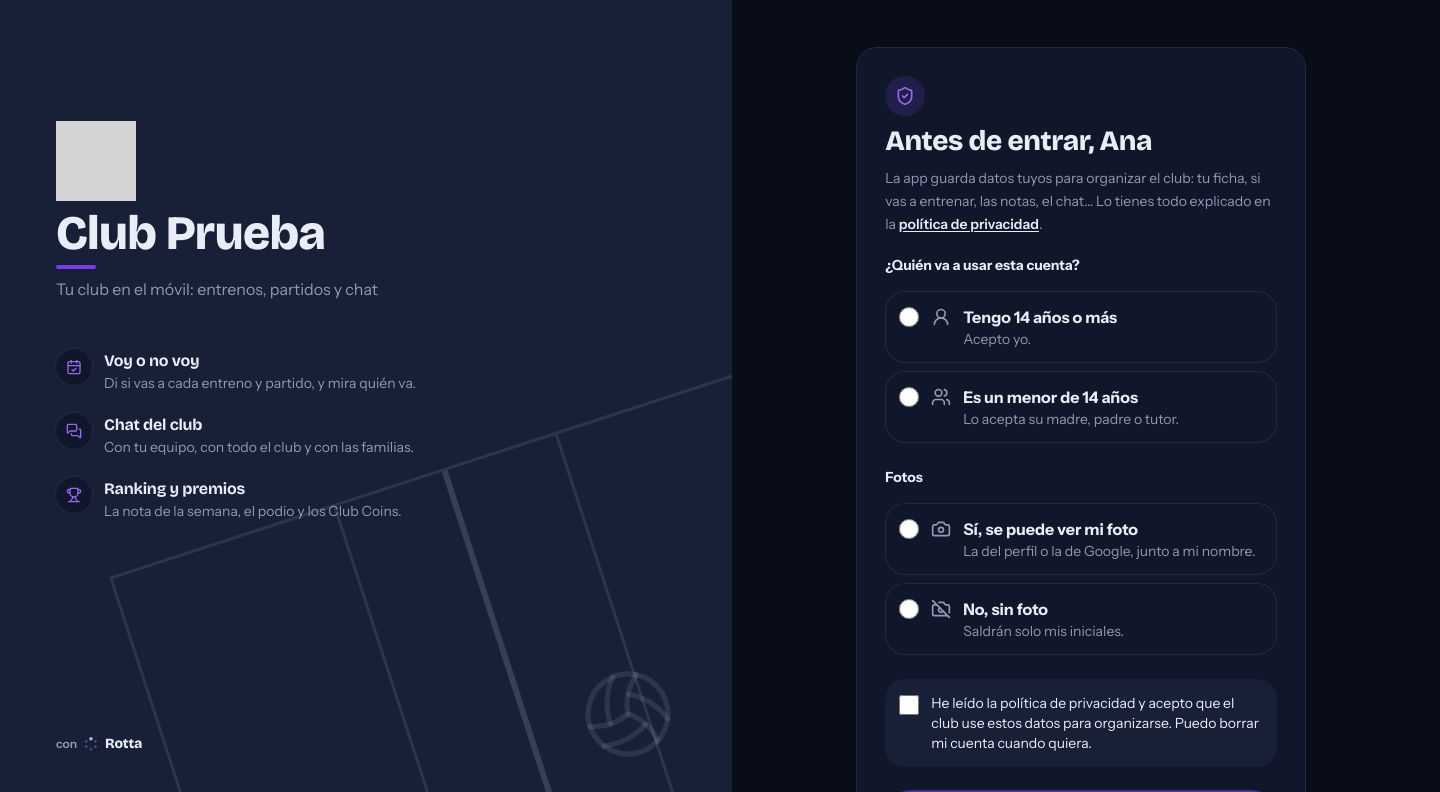
Test: ConsentPage › mayor de 14: no manda tutor; si el servidor falla, lo dice
The width and height of the screenshot is (1440, 792).
What coordinates should you click on to do the following:
click the radio button labelled "Tengo 14 años o más Acepto yo."
I would click on:
 (909, 317)
Its box is [899, 307, 919, 327].
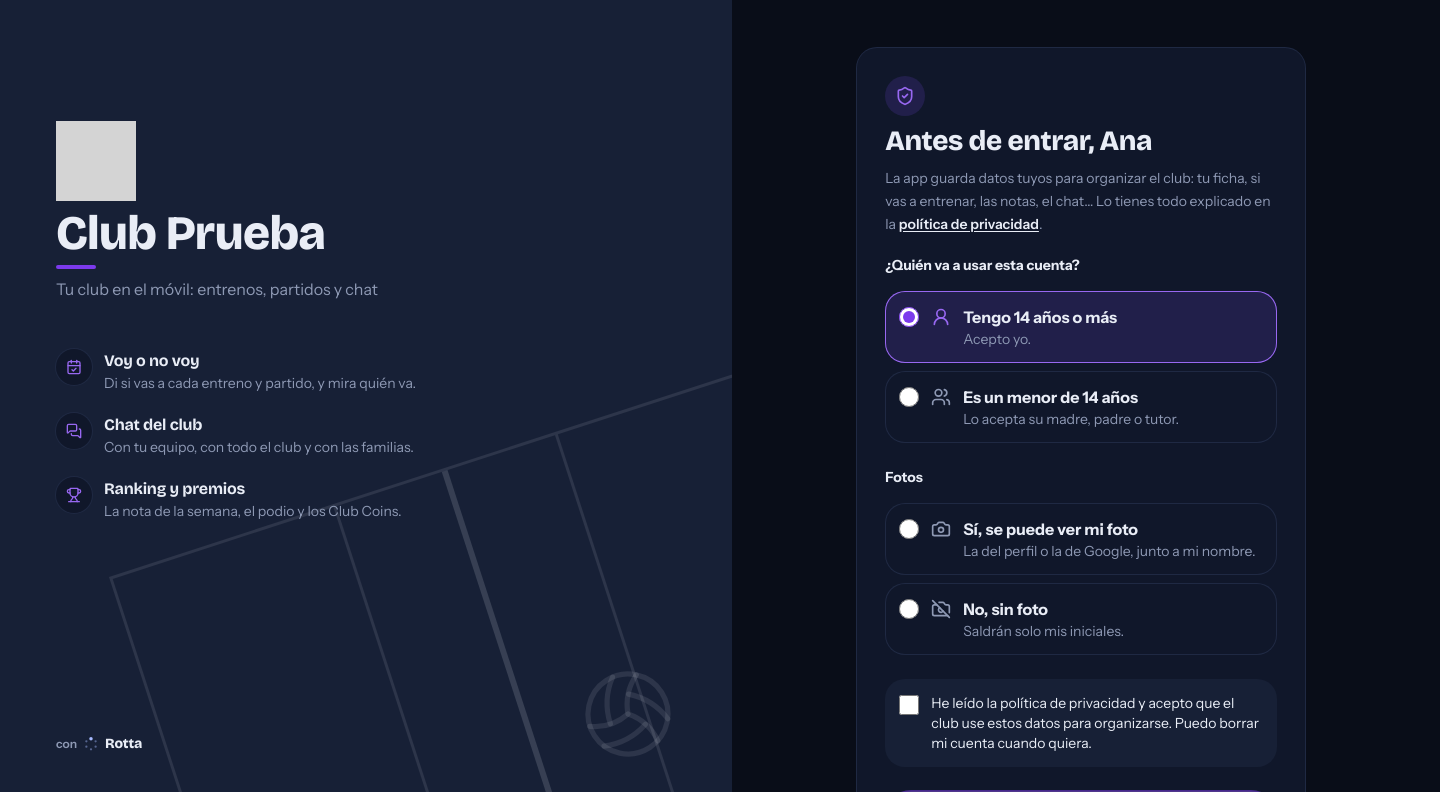
What coordinates should you click on to do the following:
click the radio button labelled "No, sin foto Saldrán solo mis iniciales."
I would click on:
 (909, 609)
Its box is [899, 599, 919, 619].
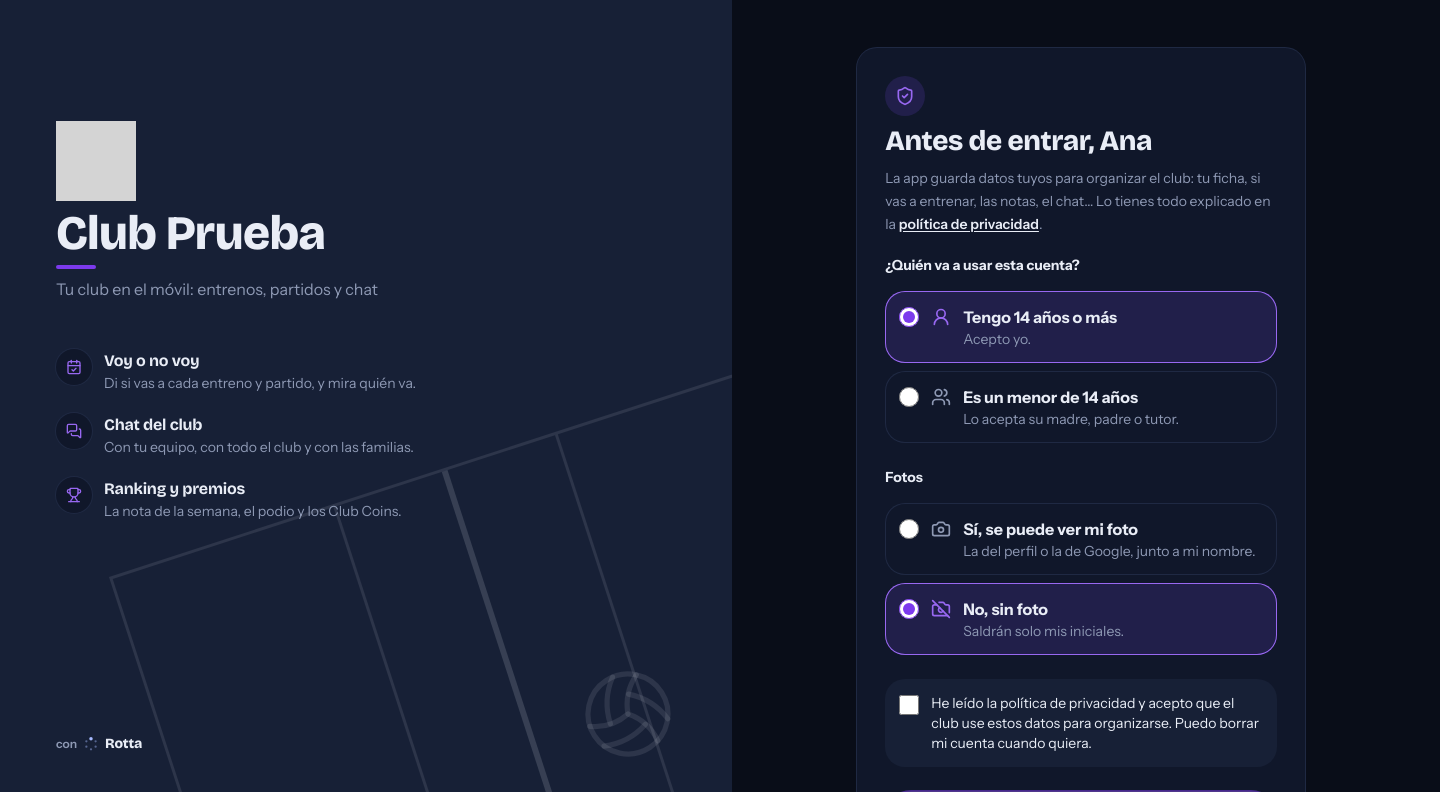
What coordinates should you click on to do the following:
click the checkbox
I would click on:
 (909, 705)
Its box is [899, 695, 919, 715].
(page scrolled)
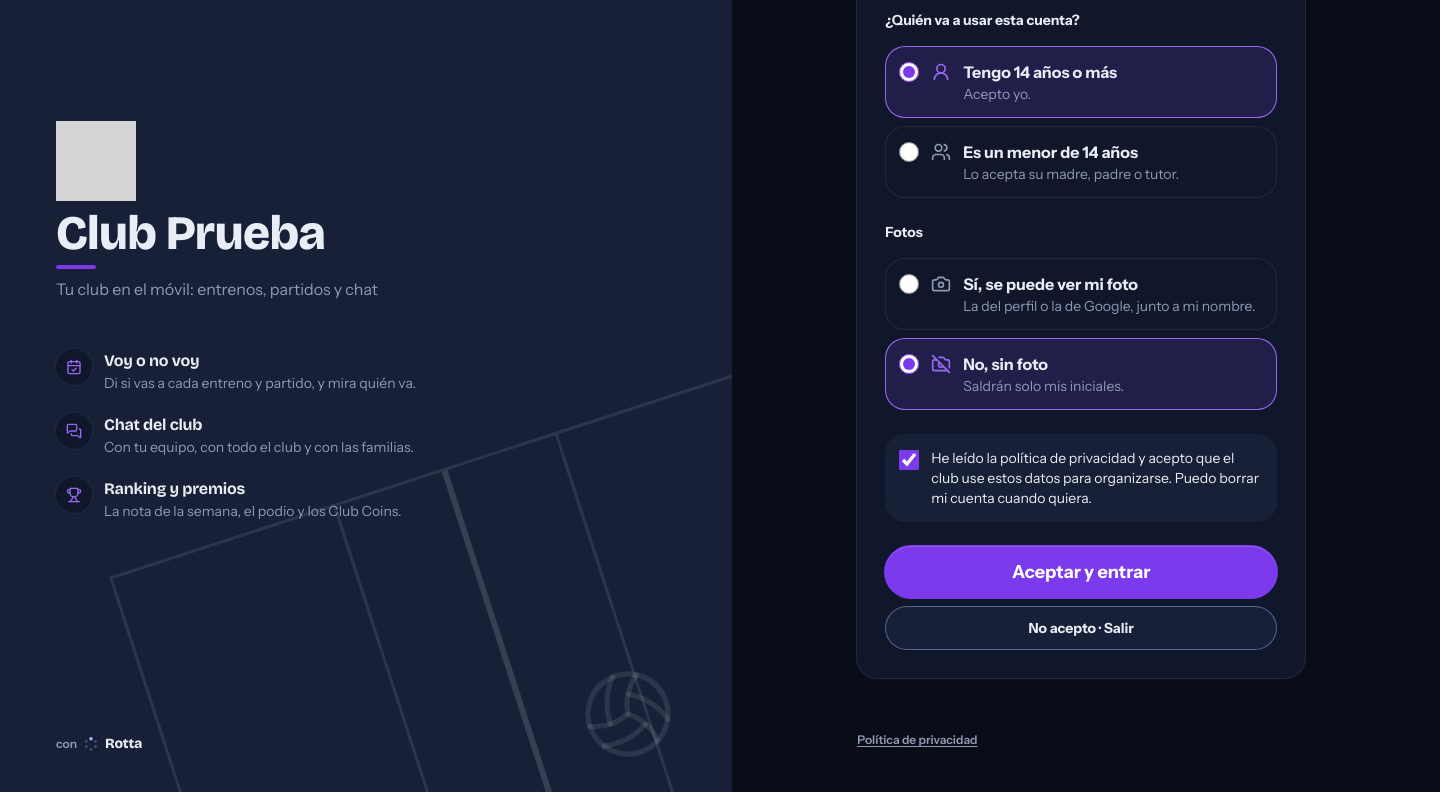
What coordinates should you click on to do the following:
click the button "Aceptar y entrar"
I would click on:
 (1081, 572)
Its box is [885, 546, 1277, 598].
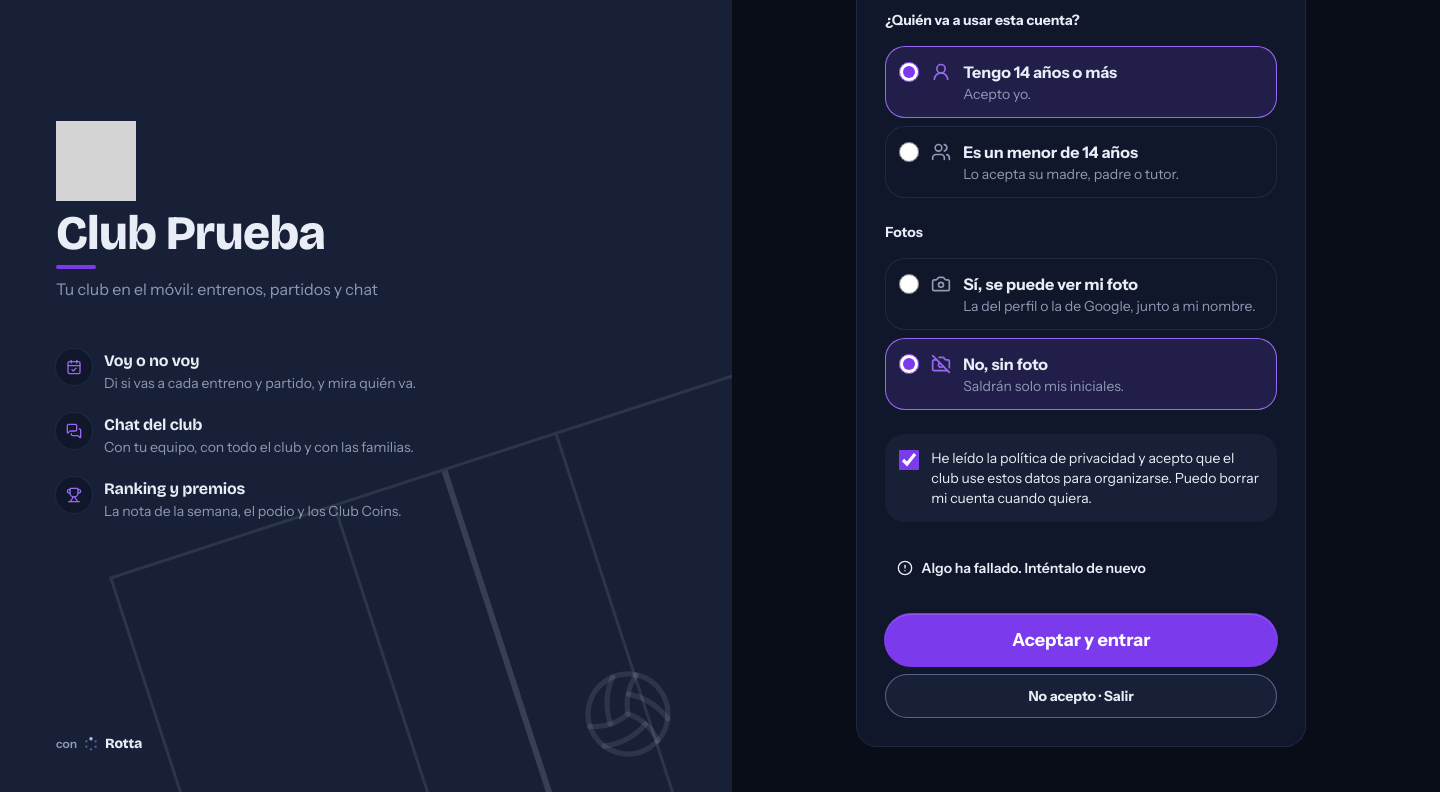
expect the message shows "Algo ha fallado": met, box [921, 559, 1146, 577]
